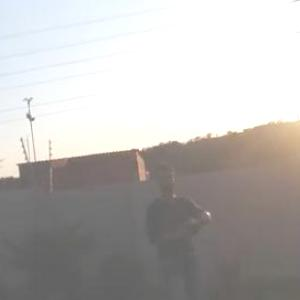follow: (136, 154, 217, 299)
